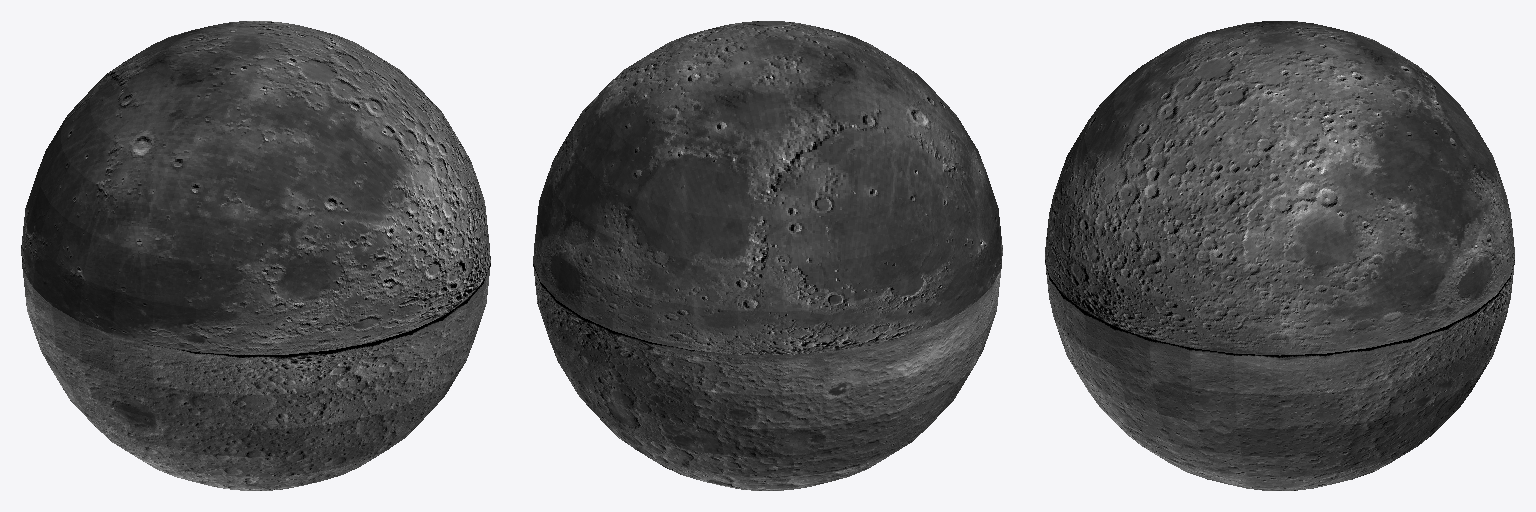
The picture shows the model from 3 angles: view 1: azimuth 30°, elevation 25°; view 2: azimuth 150°, elevation 25°; view 3: azimuth 270°, elevation 25°; orthographic projection.
Visible parts, largest first — view 1: Sphere; view 2: Sphere; view 3: Sphere.
Boxes of the visible parts, box(x1,y1,x2,y2) form: Sphere: box(21, 21, 490, 490); Sphere: box(533, 21, 1002, 490); Sphere: box(1045, 21, 1514, 490).
Size of the model in its own units: 2.37 by 2.37 by 2.37.
Materials: 1 (1 with a texture image).